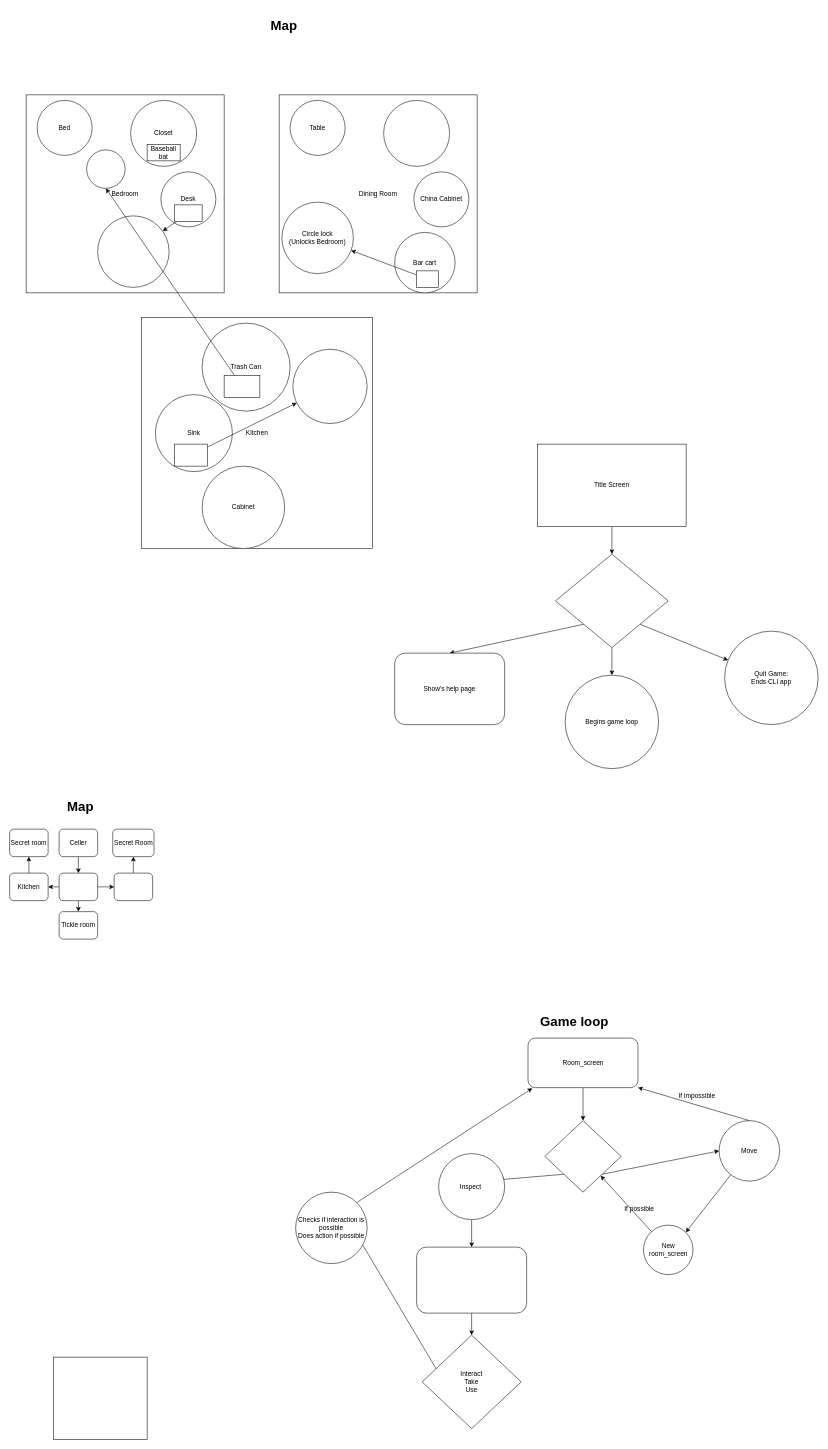
Some shapes in this 828 by 1449 pixel diagram are drawn without their labels. The centre of each missing label's shape, as x and y in pixels:
"Chairs" belongs at (x=416, y=133).
"Circle key" belongs at (x=427, y=278).
"Crowbar" belongs at (x=242, y=386).
"Hallway" belongs at (x=78, y=887).
"library" belongs at (x=133, y=887).
"Move to adjacent room Inspect obj" belongs at (x=582, y=1156).
"Planks deleted when solved" belongs at (x=105, y=168).
"seed display, player, rooms, items, inspectables" belongs at (x=100, y=1398).
"Selections: Start game Help Quit game" belongs at (x=611, y=601).
"Square Key" belongs at (x=191, y=455).
"Square Lock/ Unlocks dining room" belongs at (x=329, y=386).
"Target description" belongs at (x=471, y=1280).
"Triangle key" belongs at (x=188, y=212).
"Triangle Lock Created when planks are deleted (To exit(wins game))" belongs at (x=133, y=251).
